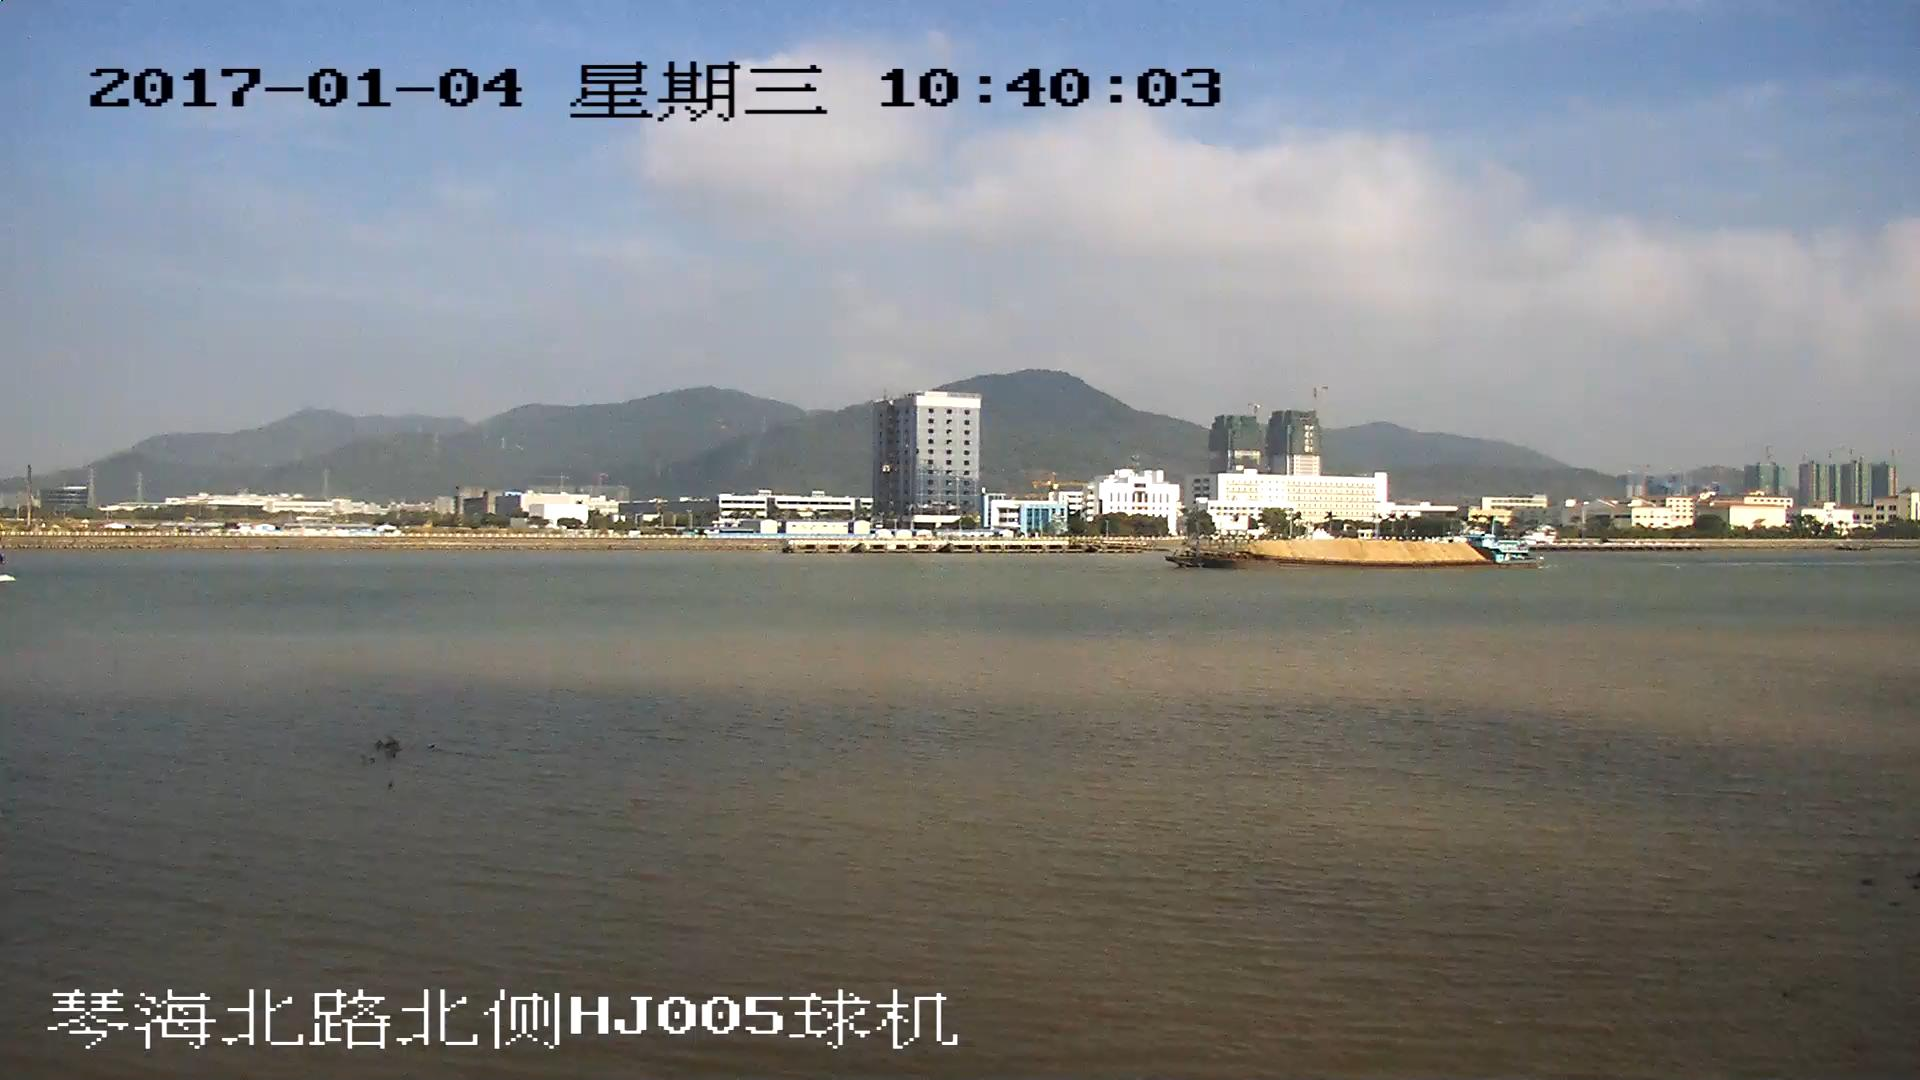ore carrier: (1177, 532, 1528, 569)
